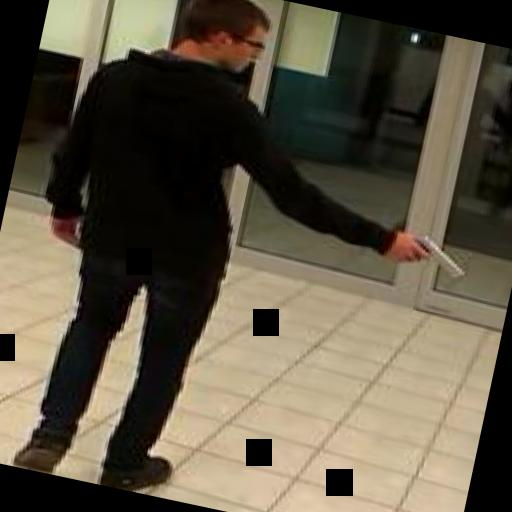Handgun: (378, 223, 470, 280)
